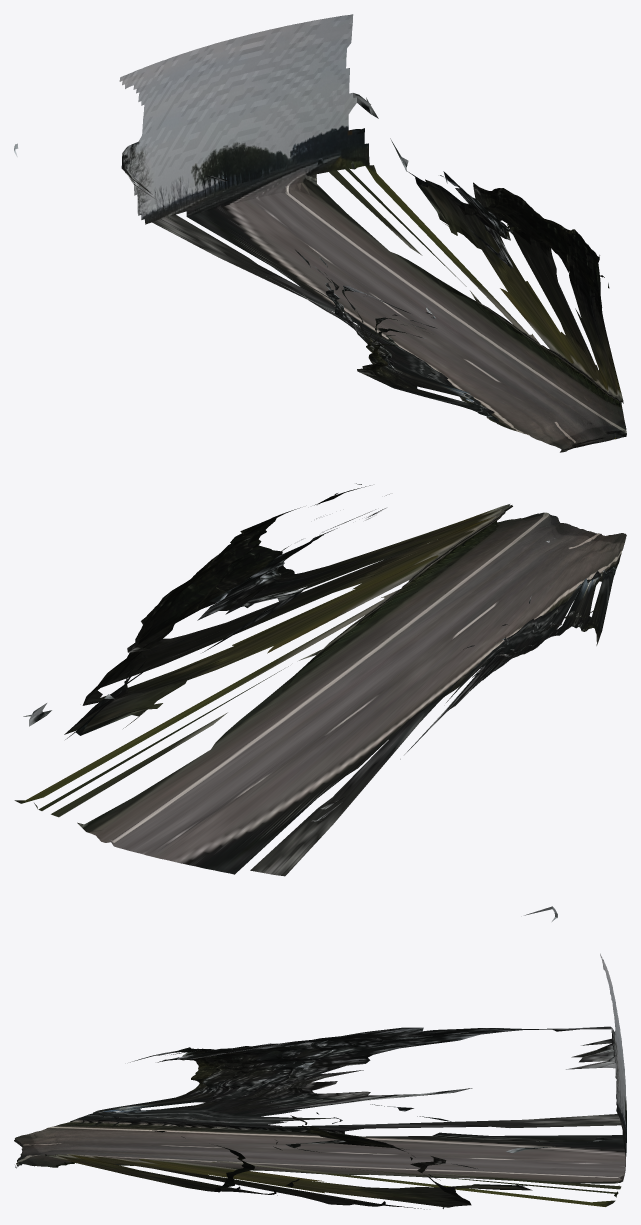
3 renders of one model, top to bottom at view 1: azimuth 30°, elevation 25°; view 2: azimuth 150°, elevation 25°; view 3: azimuth 270°, elevation 25°, orthographic. The views are drawn at different scales.
Visible parts, largest first — view 1: defaultobject; view 2: defaultobject; view 3: defaultobject.
Boxes of the visible parts, box(x1,y1,x2,y2) form: defaultobject: box(14, 14, 626, 452); defaultobject: box(14, 483, 626, 876); defaultobject: box(14, 906, 626, 1209).
Bounding box in the file's own units: 31.4 × 12.16 × 44.52.
Materials: 1 (1 with a texture image).
